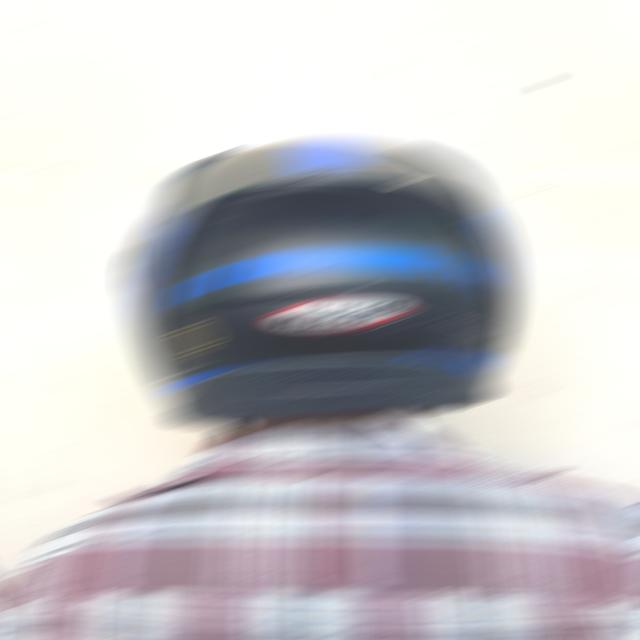With Helmet: (118, 141, 519, 423)
